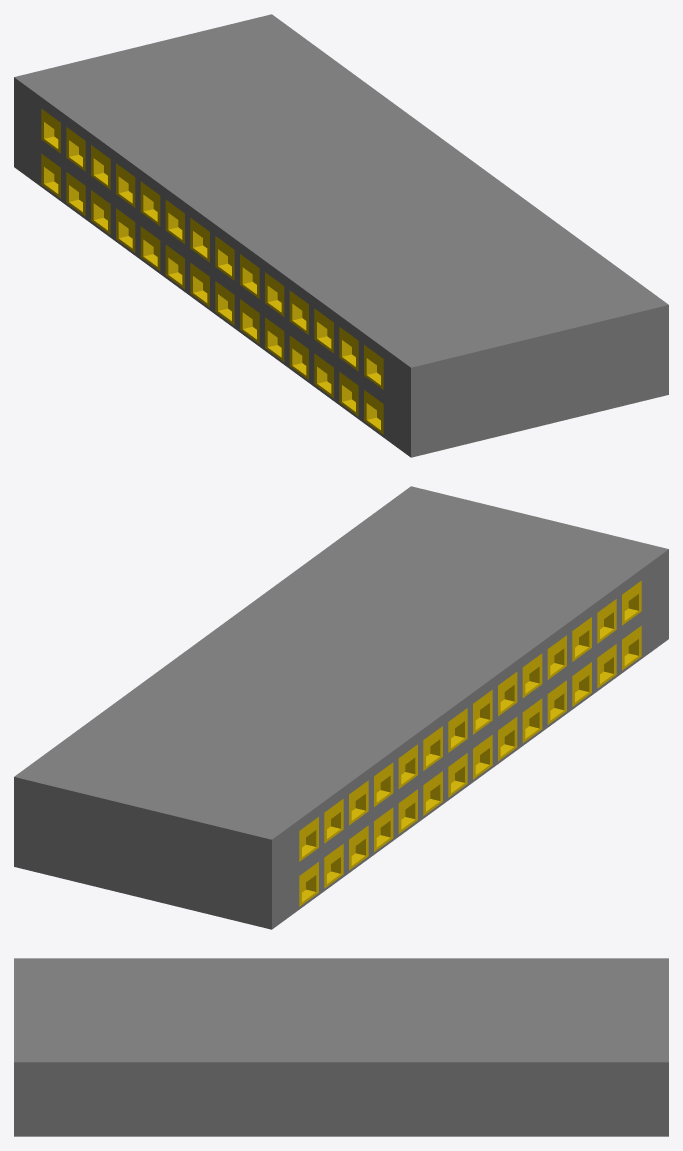
File: Switch.fbx
The picture shows the model from 3 angles, top to bottom: view 1: azimuth 30°, elevation 25°; view 2: azimuth 150°, elevation 25°; view 3: azimuth 270°, elevation 25°; orthographic projection. The views are drawn at different scales.
Parts seen in each view (by area): view 1: Switch; view 2: Switch; view 3: Switch.
Boxes of the visible parts, x1=… form: Switch: x1=14, y1=14, x2=668, y2=457; Switch: x1=14, y1=486, x2=668, y2=929; Switch: x1=14, y1=958, x2=668, y2=1136.
Bounding box in the file's own units: 600 × 200 × 1600.
